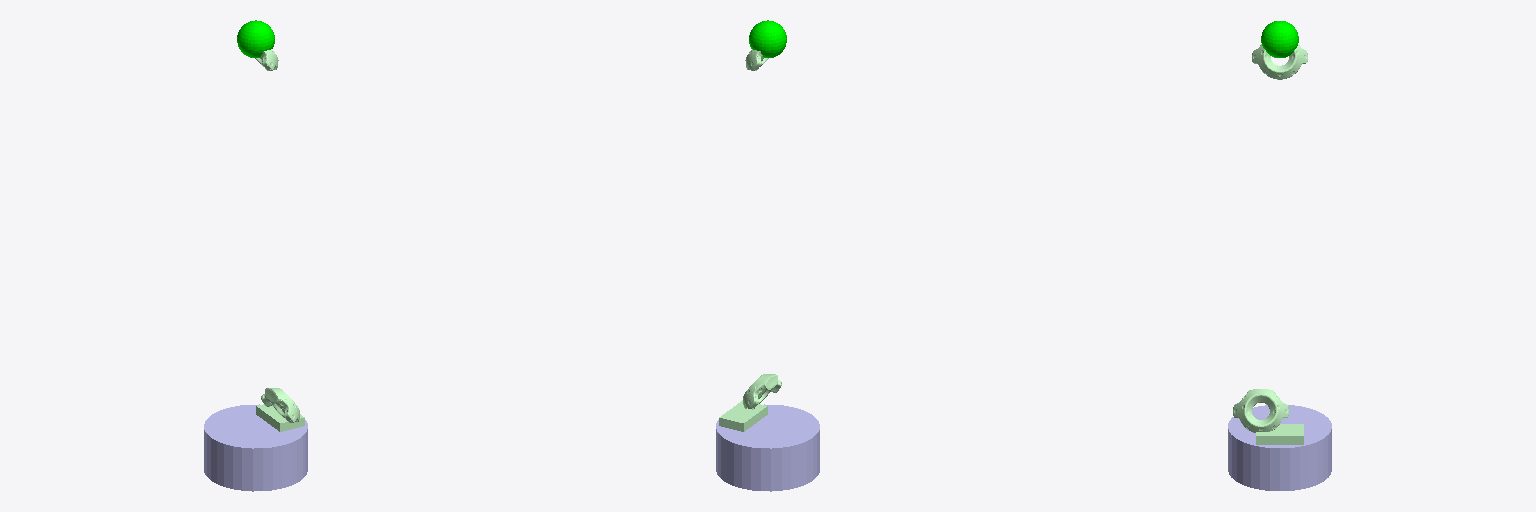
robot.urdf — one_arm:
<?xml version="1.0"?>
<robot xmlns:xacro="http://www.ros.org/wiki/xacro" name="one_arm">

<material name="gray">
  <color rgba="0.8 0.8 0.8 1"/>
</material>
<material name="gray-red">
  <color rgba="1.0 0.8 0.8 2.0"/>
</material>
<material name="gray-green">
  <color rgba="0.8 1.0 0.8 2.0"/>
</material>
<material name="gray-blue">
  <color rgba="0.8 0.8 1.0 2.0"/>
</material>
<material name="green">
  <color rgba="0.0 1.0 0.0 2.0"/>
</material>

<link name="world">
</link>
<link name="base_link">
</link>

<link name="link1">
  <visual>
    <origin rpy="0 0 0" xyz="0 0 0"/>
    <geometry>
      <cylinder radius="0.11" length="0.1" />
    </geometry>
    <material name="gray-blue">
    </material>
  </visual>
</link>
<link name="link2">
  <visual>
    <origin rpy="0 0 0" xyz="0 0 0"/>
    <geometry>
      <box size="0.06 0.1 0.04" />
    </geometry>
    <material name="gray-green">
    </material>
  </visual>
</link>
<link name="sense_link">
  <visual>
  <origin rpy="3.1415 0 0" xyz="0 0 0"/>
    <geometry>
      <mesh filename="package://sfp03/urdf/ViveController.stl"/>
    </geometry>
    <material name="gray-green">
    </material>
  </visual>
</link>
<link name="ctrl_link">
  <visual>
  <origin rpy="3.1415 0 0" xyz="0 0 0"/>
    <geometry>
      <mesh filename="package://sfp03/urdf/ViveController.stl"/>
    </geometry>
    <material name="gray-green">
    </material>
  </visual>
</link>
<link name="goal_link">
  <visual>
    <origin rpy="0 0 0" xyz="0 0 0"/>
    <geometry>
      <sphere radius="0.04" />
    </geometry>
    <material name="green">
    </material>
  </visual>
</link>
<link name="pointer_link">
</link>

<joint name="robot_joint" type="floating">
  <parent link="world"/>
  <child link="base_link"/>
  <origin xyz="0 0 0" rpy="0 0 0"/>
  <axis xyz="0 0 1"/>
  <limit effort="30" velocity="1.0" lower="-2.0" upper="2.0" />
</joint>
<joint name="joint1" type="fixed">
  <parent link="base_link"/>
  <child link="link1"/>
  <origin xyz="0 0 0.05" rpy="0 0 0"/>
</joint>
<joint name="joint2" type="fixed">
  <parent link="base_link"/>
  <child link="link2"/>
  <origin xyz="0.06 0 0.1" rpy="0 0 0"/>
</joint>
<joint name="sense_joint" type="fixed">
  <parent link="base_link"/>
  <child link="sense_link"/>
  <origin xyz="0.03 -0.04 0.190" rpy="0 0 0"/>
</joint>
<joint name="ctrl_joint" type="floating">
  <parent link="world"/>
  <child link="ctrl_link"/>
  <origin xyz="0 0 1.0" rpy="0 0 0"/>
  <limit effort="30" velocity="1.0" lower="-2.0" upper="2.0" />
</joint>
<joint name="pointer_joint" type="fixed">
  <parent link="ctrl_link"/>
  <child link="pointer_link"/>
  <origin xyz="0.02 0 -0.03" rpy="0 -0.593 0"/>
  <limit effort="30" velocity="1.0" lower="-2.0" upper="2.0" />
</joint>
<joint name="goal_joint" type="floating">
  <parent link="world"/>
  <child link="goal_link"/>
  <origin xyz="0 0 1.0" rpy="0 0 0"/>
  <limit effort="30" velocity="1.0" lower="-2.0" upper="2.0" />
</joint>

</robot>

--- Render facts (derived) ---
The picture shows the robot from 3 angles, left to right: view 1: azimuth 30°, elevation 25°; view 2: azimuth 150°, elevation 25°; view 3: azimuth 270°, elevation 25°; orthographic projection.
Model one_arm with 8 links and 7 joints (4 fixed, 3 floating), rooted at world, posed every joint at zero.
Links seen in each view (by area): view 1: link1, goal_link, sense_link, link2; view 2: link1, goal_link, link2, sense_link; view 3: link1, sense_link, goal_link, ctrl_link, link2.
Link boxes in pixels (left/top/right/bottom): link1: left=204, top=404, right=307, bottom=491; goal_link: left=237, top=20, right=274, bottom=57; sense_link: left=261, top=388, right=299, bottom=422; link2: left=256, top=404, right=304, bottom=431; link1: left=716, top=404, right=819, bottom=491; goal_link: left=749, top=20, right=786, bottom=57; link2: left=719, top=400, right=767, bottom=431; sense_link: left=743, top=374, right=781, bottom=409; link1: left=1228, top=405, right=1331, bottom=490; sense_link: left=1233, top=389, right=1288, bottom=432; goal_link: left=1261, top=21, right=1298, bottom=57; ctrl_link: left=1252, top=44, right=1307, bottom=79; link2: left=1256, top=424, right=1303, bottom=444.
Size in the robot's own frame: 0.22 by 0.22 by 1.04 metres.
Meshes: 1 distinct files referenced, 2 mesh visuals loaded (1 binary STL).